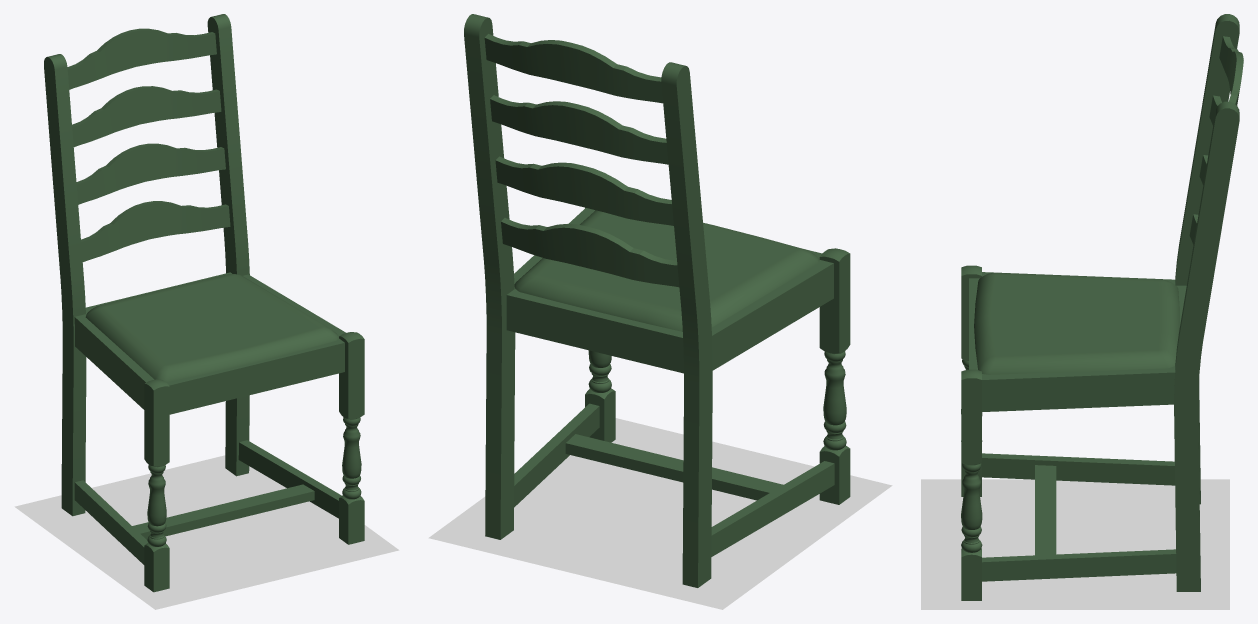
File: dinning-chair.gltf
3 views of the same model, side by side, from view 1: azimuth 30°, elevation 25°; view 2: azimuth 150°, elevation 25°; view 3: azimuth 270°, elevation 25° (orthographic). The views are drawn at different scales.
Visible parts, largest first — view 1: chair-body, occupied; view 2: chair-body, occupied; view 3: chair-body, occupied.
Part boxes in pixels (x1,y1,x2,y2): chair-body: (44,14,364,592); occupied: (14,455,399,609); chair-body: (464,14,850,587); occupied: (428,418,892,609); chair-body: (961,14,1243,600); occupied: (921,479,1229,609).
Bounding box in the file's own units: 0.5772 × 0.9999 × 0.6028.
